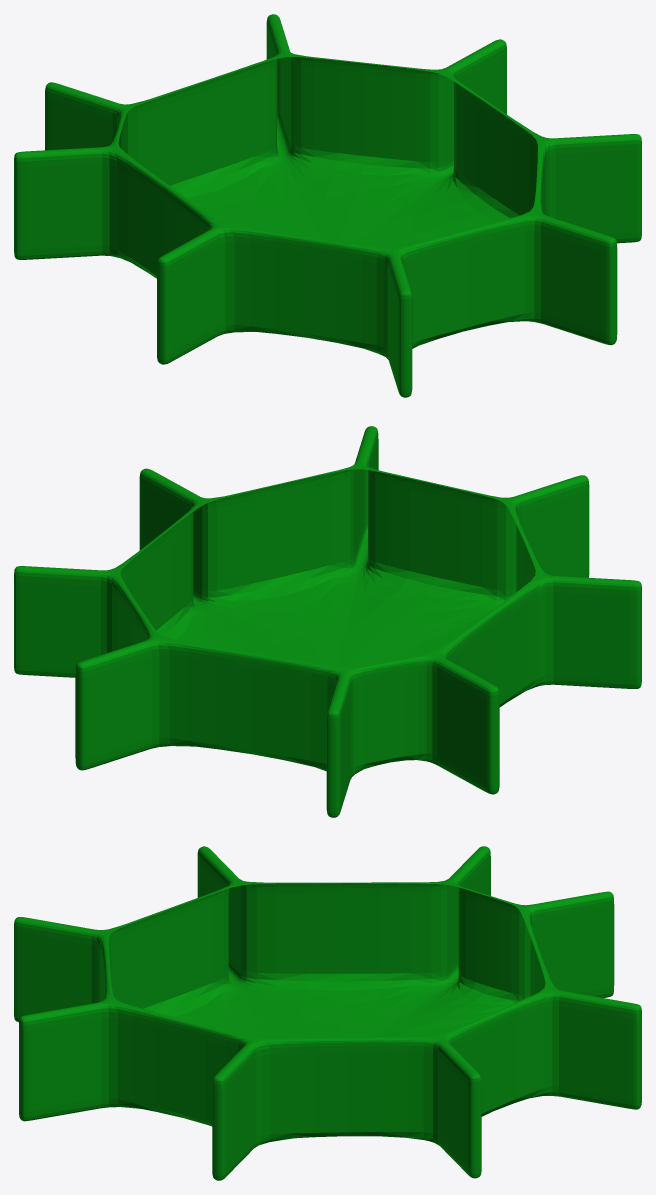
Rendered from cell_wall.glb.
The picture shows the model from 3 angles, top to bottom: view 1: azimuth 30°, elevation 25°; view 2: azimuth 150°, elevation 25°; view 3: azimuth 270°, elevation 25°; orthographic projection. The views are drawn at different scales.
Parts seen in each view (by area): view 1: cell_wall; view 2: cell_wall; view 3: cell_wall.
Part boxes in pixels (left/top/right/bottom): cell_wall: left=14, top=14, right=641, bottom=397; cell_wall: left=14, top=426, right=641, bottom=817; cell_wall: left=14, top=846, right=641, bottom=1180.
Bounding box in the file's own units: 1.77 × 0.3688 × 2.
